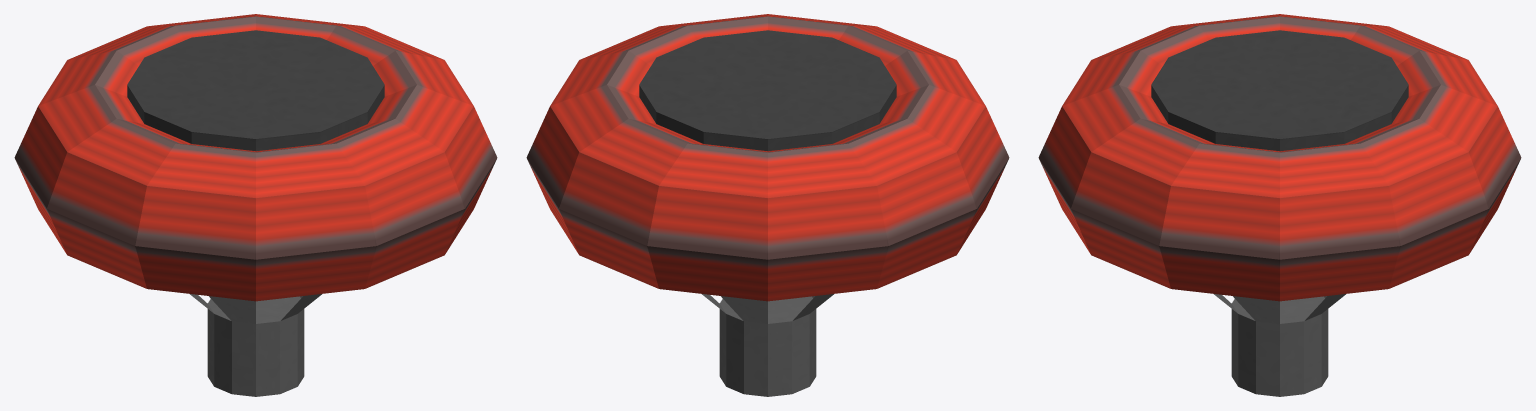
Rendered from forcefield_top.obj.
3 renders of one model, left to right at view 1: azimuth 30°, elevation 25°; view 2: azimuth 150°, elevation 25°; view 3: azimuth 270°, elevation 25°, orthographic.
Parts seen in each view (by area): view 1: Torus.001; view 2: Torus.001; view 3: Torus.001.
Part boxes in pixels (bbox=[...]): Torus.001: bbox=[14, 14, 497, 396]; Torus.001: bbox=[526, 14, 1009, 396]; Torus.001: bbox=[1038, 14, 1521, 396].
Bounding box in the file's own units: 1.5 × 1 × 1.5.
